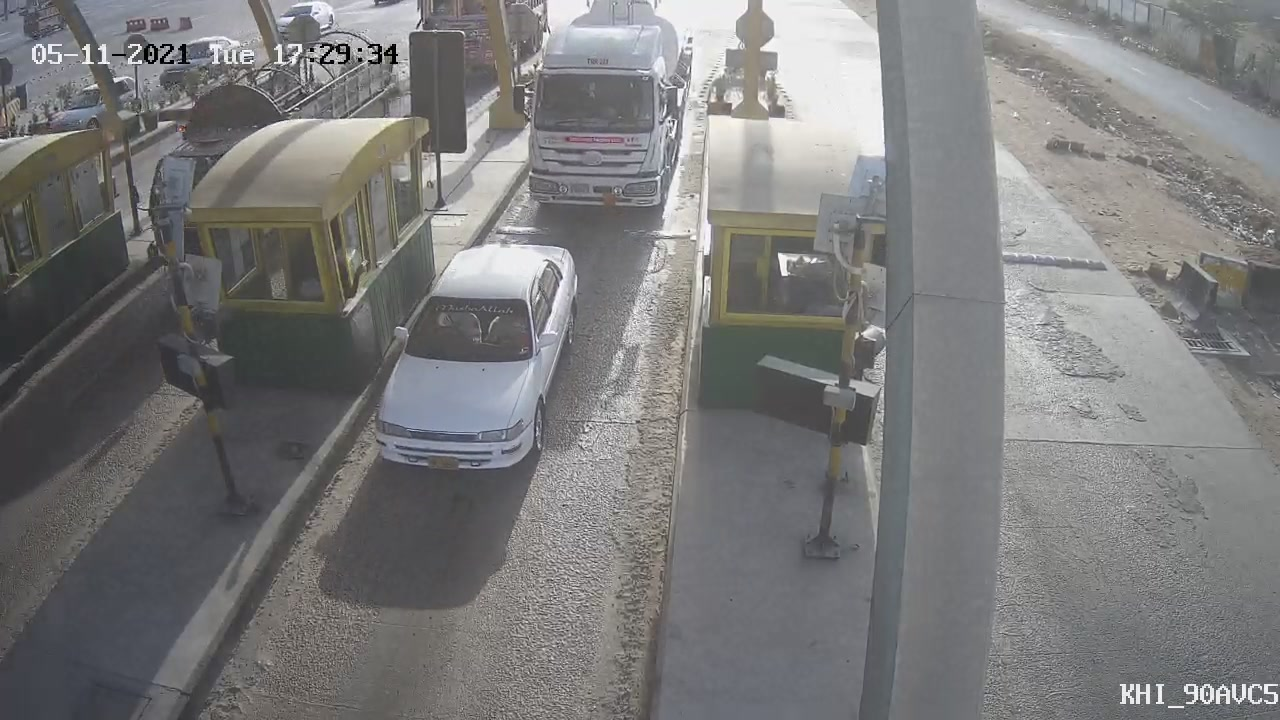F1: (350, 224, 609, 495)
